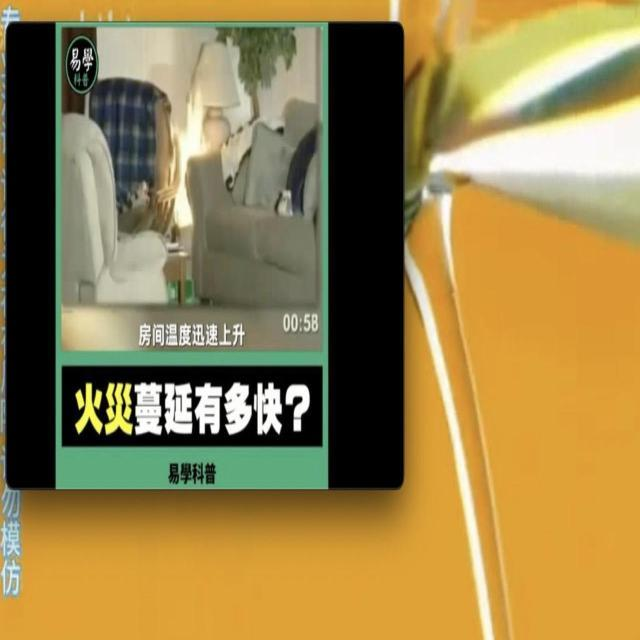smoke: (162, 83, 205, 241)
